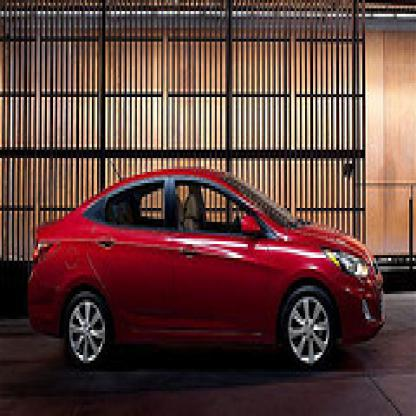Vehicle: (24, 166, 387, 383)
